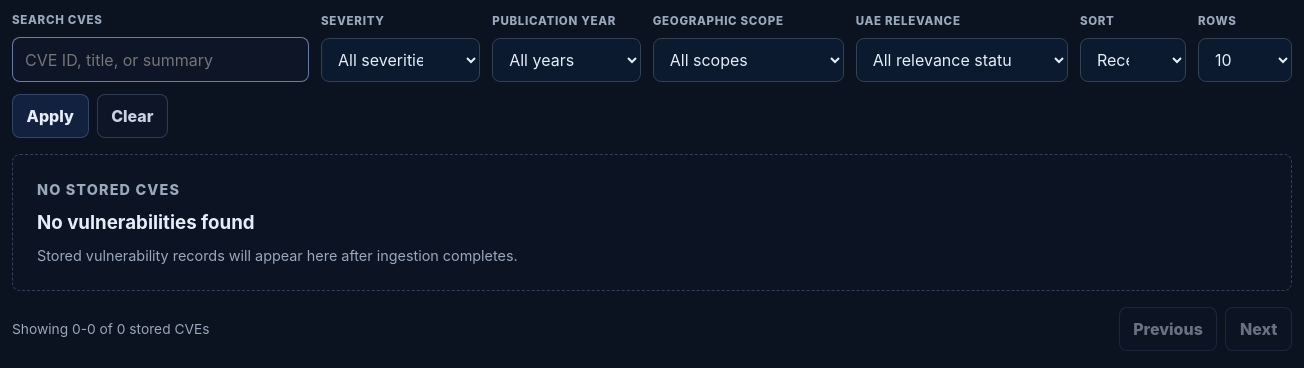
Test: VulnerabilitiesTable › distinguishes unfiltered and filtered empty states
Expected: the heading "No vulnerabilities found" is shown, [37,211,255,234]
Select "Low" in the dropdown labelled "Severity" at (401, 60), box [321,38,480,82]
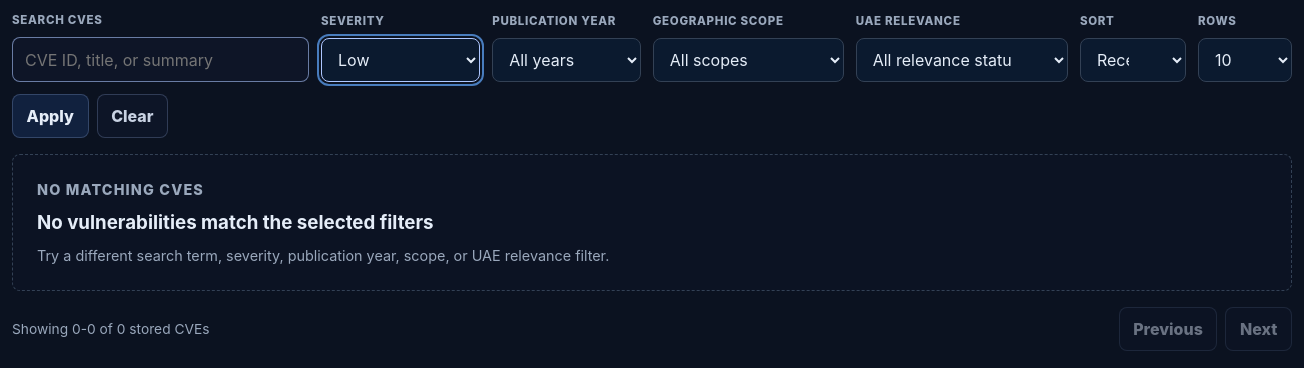
Now the heading "No vulnerabilities match the selected filters" is shown, box [37,211,434,234]
